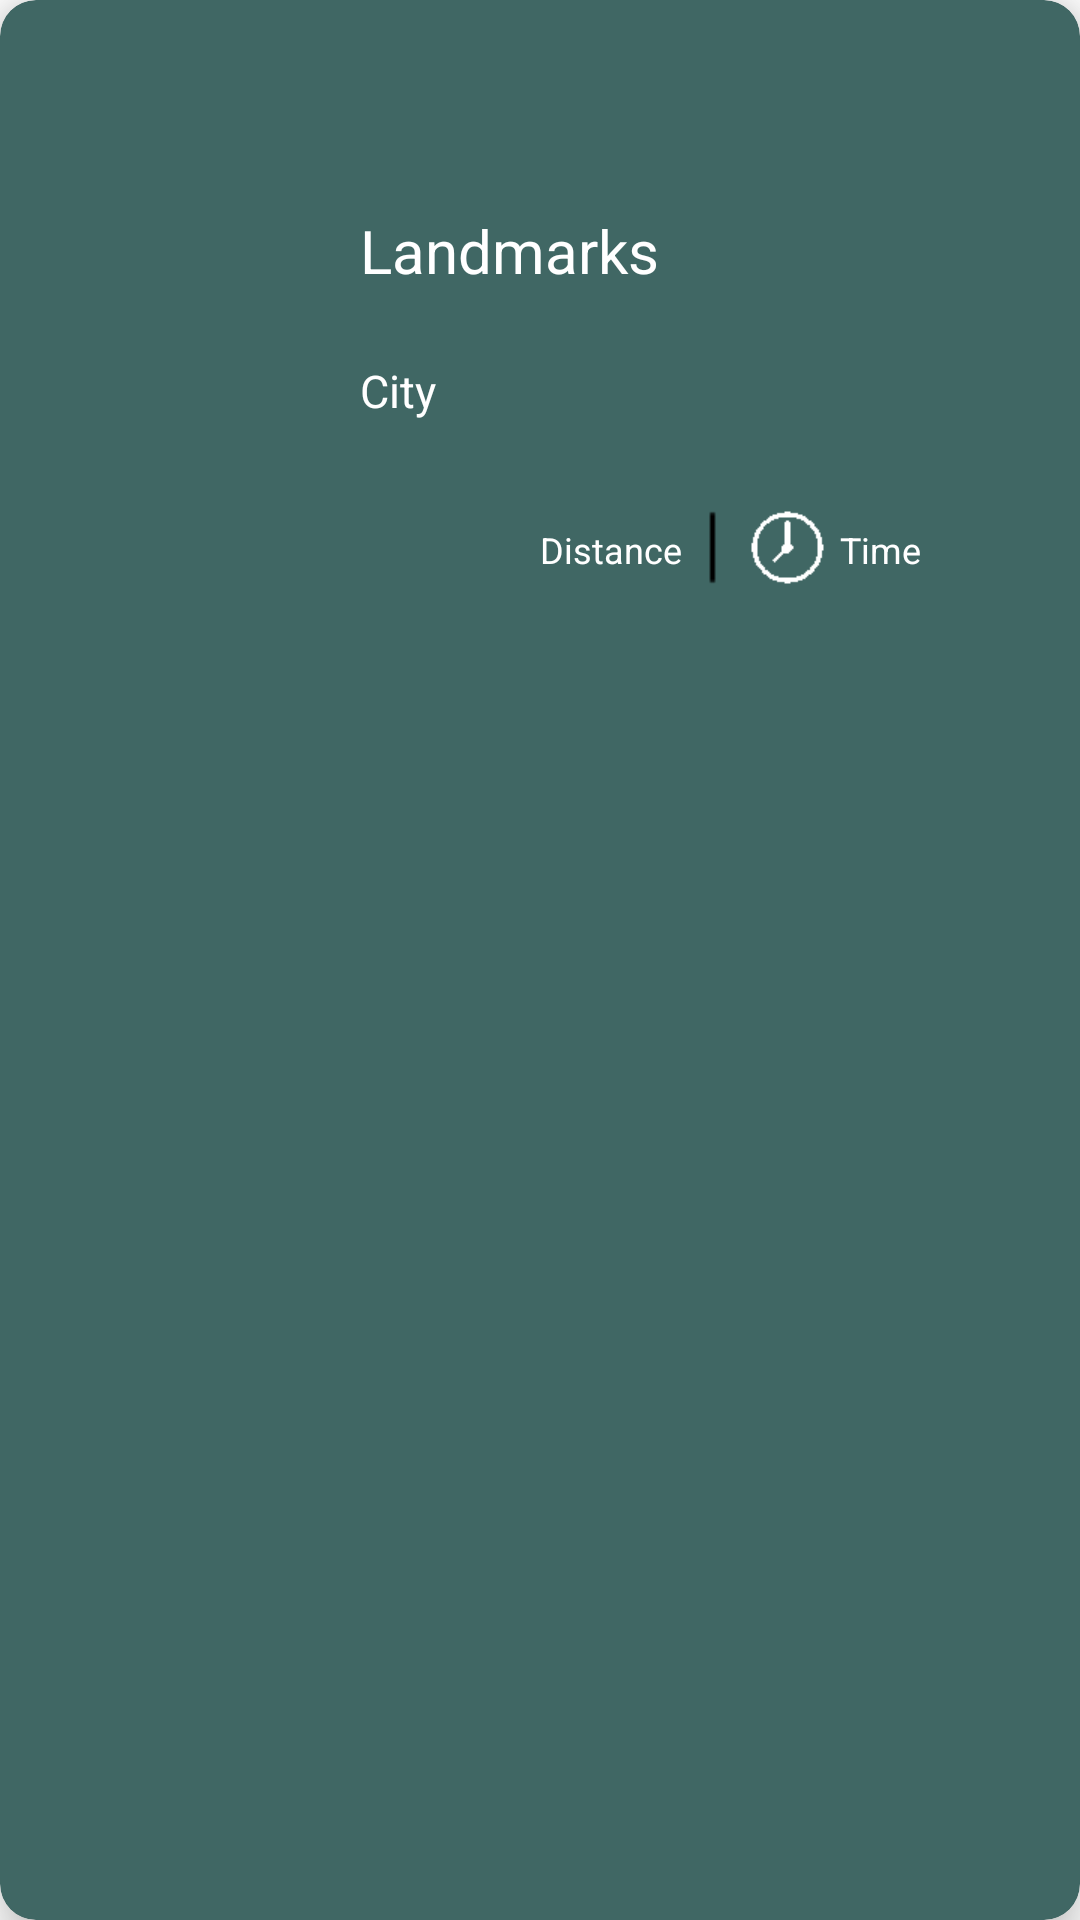

Screen size 1080 x 1920. Icon name, then its center in pixels as point (x, y):
Duration: point (787, 547)
